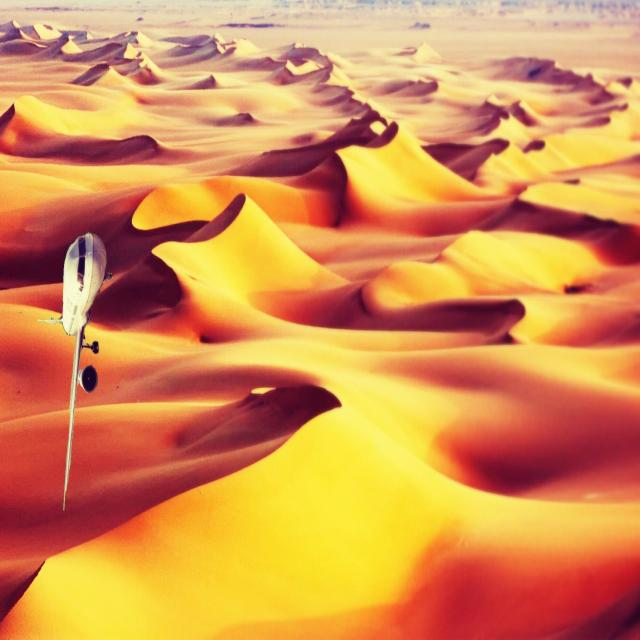airplane: (36, 232, 111, 510)
